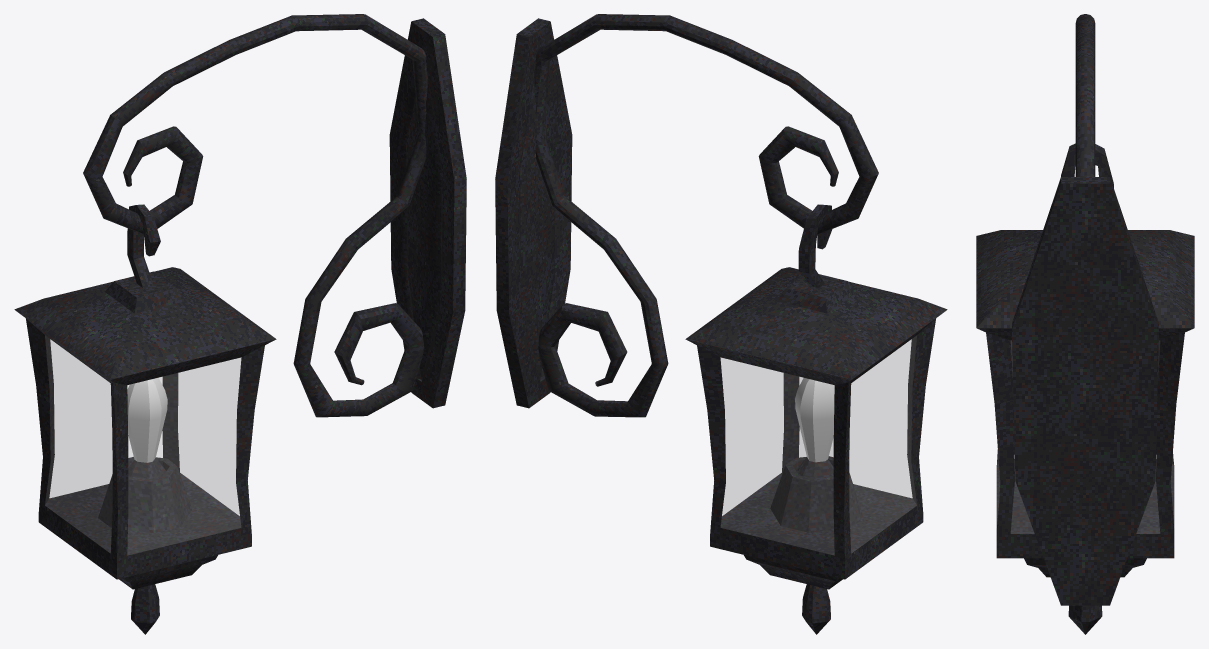
Rendered from Farol.fbx.
3 views of the same model, side by side, from view 1: azimuth 30°, elevation 25°; view 2: azimuth 150°, elevation 25°; view 3: azimuth 270°, elevation 25° (orthographic). The views are drawn at different scales.
Parts seen in each view (by area): view 1: Cubo.006; view 2: Cubo.006; view 3: Cubo.006.
Part boxes in pixels (x1,y1,x2,y2): Cubo.006: (14,14,466,634); Cubo.006: (495,14,947,634); Cubo.006: (976,14,1194,634).
Bounding box in the file's own units: 551 × 824 × 246.
